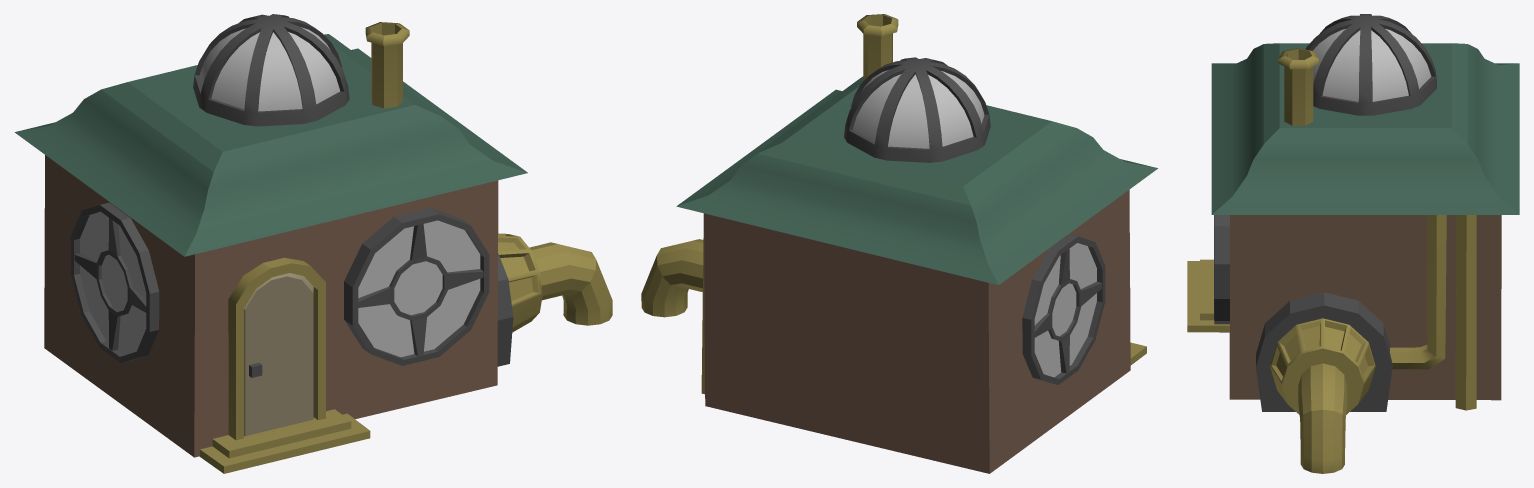
File: House 1.fbx
3 views of the same model, side by side, from view 1: azimuth 30°, elevation 25°; view 2: azimuth 150°, elevation 25°; view 3: azimuth 270°, elevation 25° (orthographic). The views are drawn at different scales.
Visible parts, largest first — view 1: House; view 2: House; view 3: House.
Boxes of the visible parts, x1,y1,x2,y2 form: House: (14, 14, 612, 473); House: (641, 14, 1157, 473); House: (1187, 14, 1519, 473).
Bounding box in the file's own units: 10.73 × 7.35 × 7.02.
